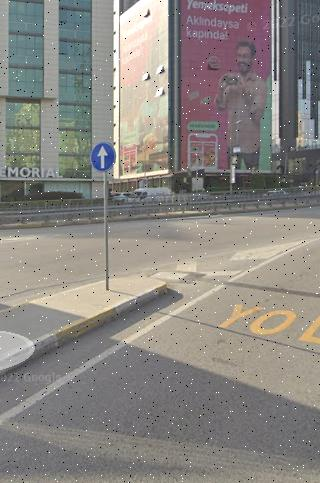forward: (89, 141, 118, 171)
